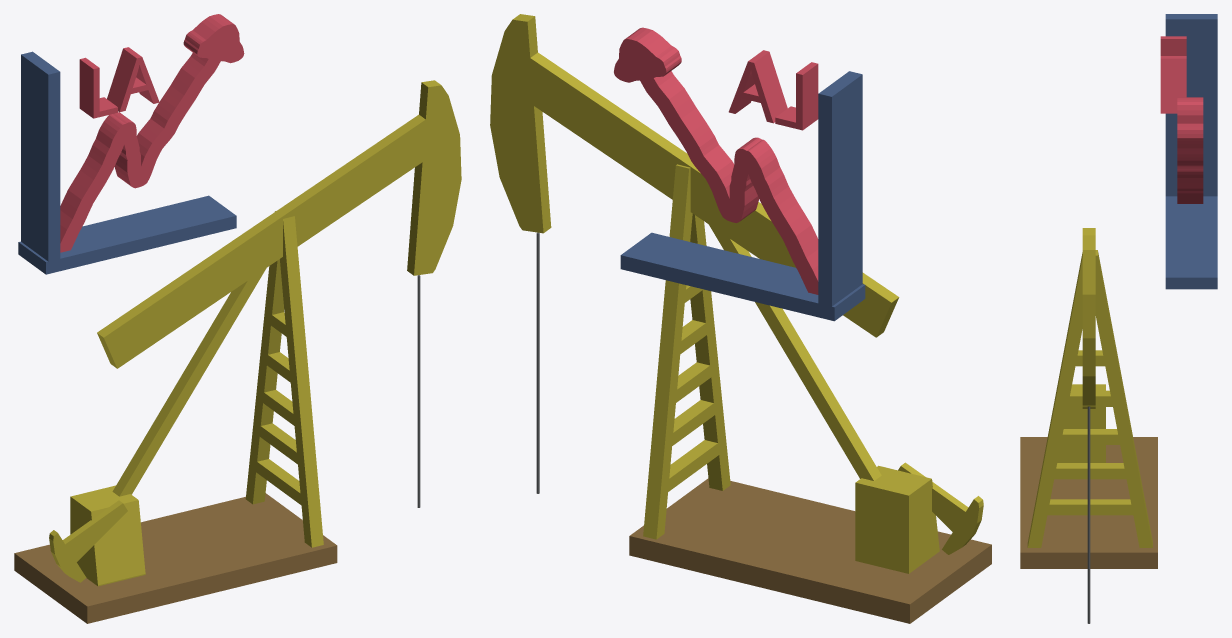
The model's file is oil rig design2.gltf.
3 views of the same model, side by side, from view 1: azimuth 30°, elevation 25°; view 2: azimuth 150°, elevation 25°; view 3: azimuth 270°, elevation 25° (orthographic). The views are drawn at different scales.
Visible parts, largest first — view 1: Mesh_Mesh_head_geo001_lambert2SG001; view 2: Mesh_Mesh_head_geo001_lambert2SG001; view 3: Mesh_Mesh_head_geo001_lambert2SG001.
Boxes of the visible parts, x1,y1,x2,y2 form: Mesh_Mesh_head_geo001_lambert2SG001: (14,14,461,623); Mesh_Mesh_head_geo001_lambert2SG001: (490,14,991,623); Mesh_Mesh_head_geo001_lambert2SG001: (1020,14,1217,623).
Bounding box in the file's own units: 177 × 194 × 76.
